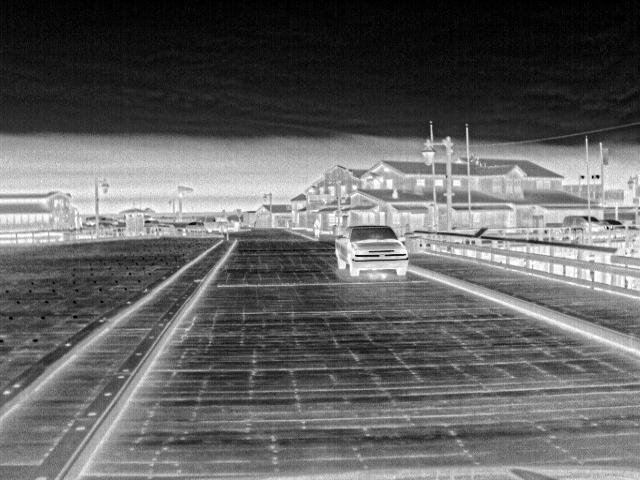car: (335, 224, 410, 277), (545, 213, 590, 229), (203, 214, 234, 232), (185, 222, 206, 232), (591, 215, 606, 227), (608, 217, 624, 227)
person: (311, 218, 323, 246)
